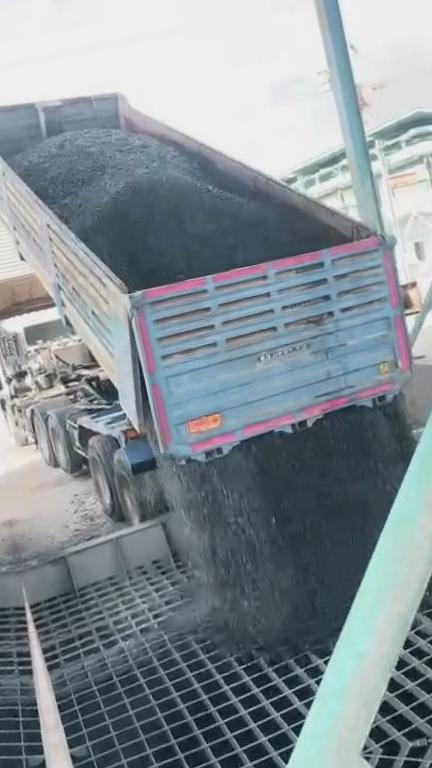gravel: (161, 407, 414, 651), (13, 129, 347, 290)
